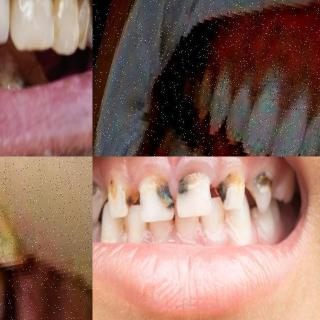Gum Swelling: (123, 156, 247, 199)
calculus: (20, 56, 46, 90), (0, 50, 19, 90)
cavities: (136, 174, 174, 221), (176, 171, 209, 215), (108, 175, 136, 218), (217, 173, 248, 210), (252, 168, 274, 208), (93, 179, 103, 205)
